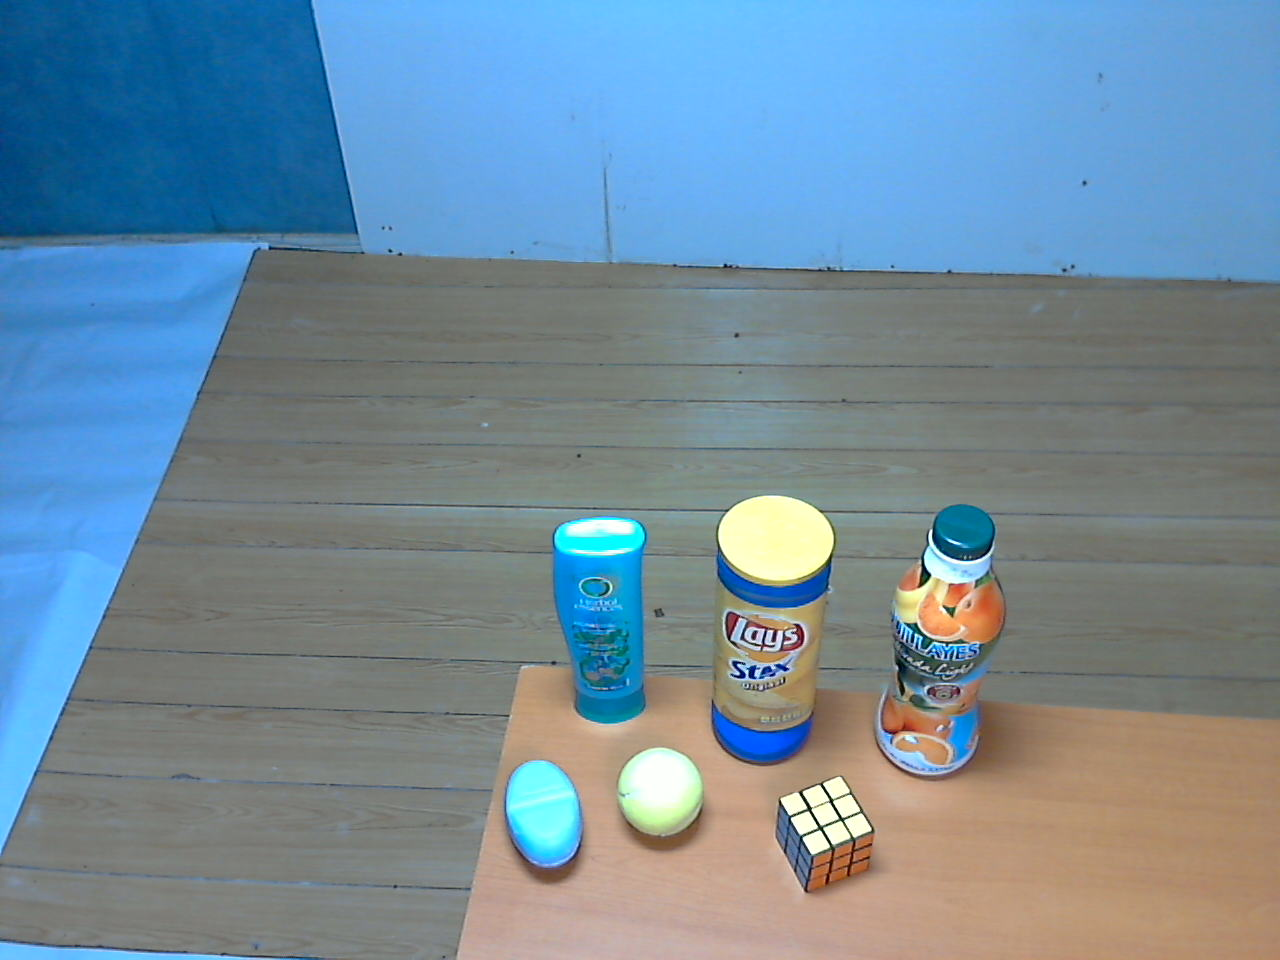balsamo: (543, 510, 664, 734)
cubix: (764, 769, 889, 903)
jabon: (498, 754, 588, 882)
papas: (702, 489, 846, 775)
pelota: (611, 738, 713, 848)
yogurt: (870, 494, 1019, 784)
